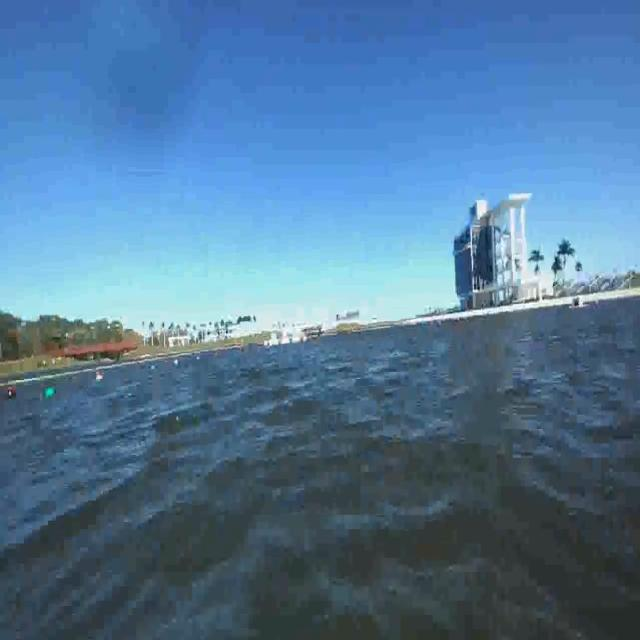green-buoy: (44, 387, 56, 398)
